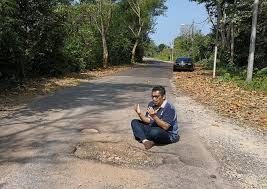pothole: (69, 139, 170, 172)
